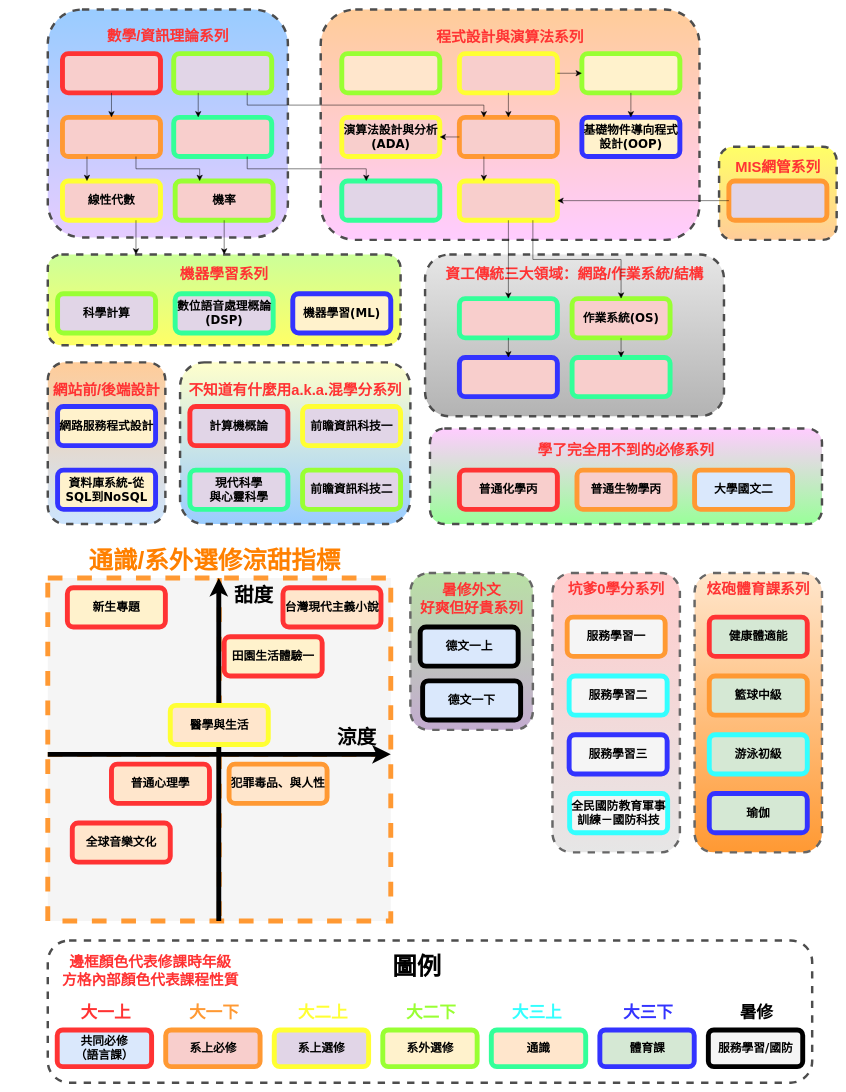
The diagram is 846 pixels wide and 1092 high, and some of its shapes have lost their labels. The shapes that lost their labels are listed below. From the top down, each one's centre as x and y in pixels, then its label:
the point at 111,73: 微積分甲上
the point at 222,73: 離散數學
the point at 390,73: 用 Python 做商管程式設計 （線上課程）
the point at 508,73: 計算機程式設計
the point at 630,73: 物件導向程式語言 (OOP)
the point at 111,137: 微積分甲下
the point at 222,137: 自動機與形式語言 (Automata)
the point at 508,137: 資料結構與演算法 (DSA)
the point at 390,200: 編譯程式設計
the point at 508,200: 系統程式設計(SP)
the point at 777,200: 網路管理與系統管理/實驗(NASA)
the point at 508,318: 計算機網路
the point at 508,377: 計算機網路實驗
the point at 620,377: 計算機結構
